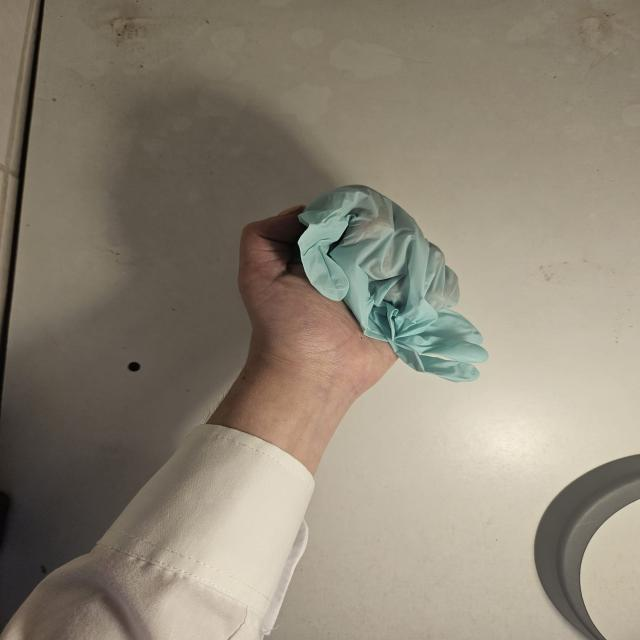glove_partial: (232, 182, 486, 384)
